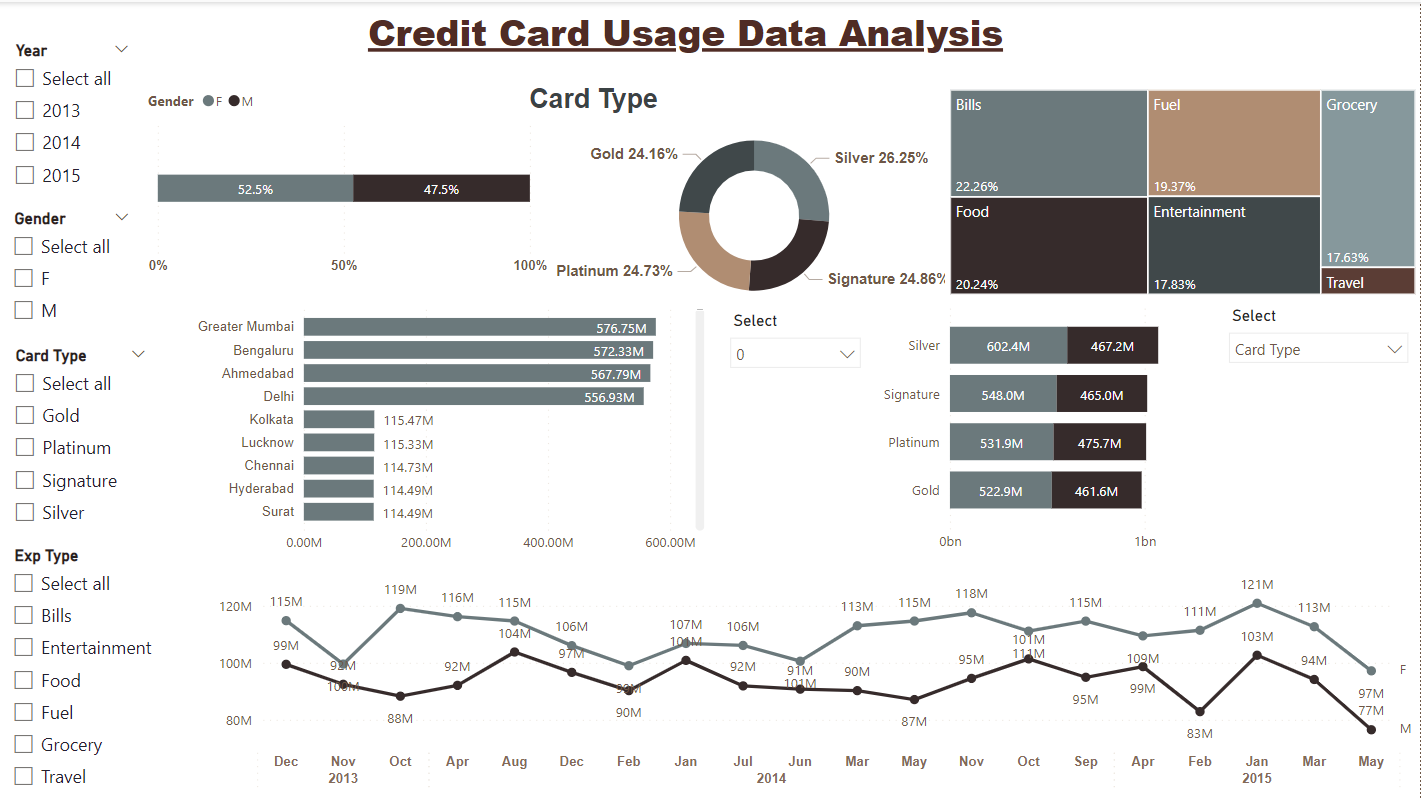

The dashboard page shown, as its layout file describes it:
{"tool":"powerbi","page":{"name":"Page 1","canvas":[1280,720],"ordinal":0},"visuals":[{"type":"textbox","box":[308.5,0,618.3,60.3],"z":0},{"type":"slicer","fields":{"Values":["Date_table.Date.Variation.Date Hierarchy.Year"]},"box":[1.4,30.2,127.5,150.8],"z":1000},{"type":"slicer","fields":{"Values":["Data.Gender"]},"box":[0,181,128.9,126.1],"z":2000},{"type":"slicer","fields":{"Values":["Data.Card Type"]},"box":[1.4,305.7,142.6,179.6],"z":3000},{"type":"slicer","fields":{"Values":["Data.Exp Type"]},"box":[0,485.4,170,234.4],"z":4000},{"type":"hundredPercentStackedBarChart","fields":{"Y":["Data.Gender_"],"Series":["Data.Gender"]},"box":[128.4,74.6,370.4,194.4],"z":5000},{"type":"donutChart","title":"Card Type","fields":{"Category":["Data.Card Type"],"Y":["Data.Transaction"]},"box":[471.9,74.6,415.6,210.3],"z":6000},{"type":"treemap","fields":{"Values":["Data.Transaction"],"Group":["Data.Exp Type"]},"box":[852,74.6,429.1,194.4],"z":7000},{"type":"lineChart","fields":{"Series":["Data.Gender"],"Category":["Date_table.Date.Variation.Date Hierarchy.Year","Date_table.Month_name"],"Y":["Data.Transaction"]},"box":[191.9,504.9,1089.2,215.1],"z":8000},{"type":"slicer","fields":{"Values":["Select.Select"]},"box":[1097.7,268.9,182.1,116.1],"z":9000},{"type":"barChart","fields":{"Category":["Data.Card Type"],"Y":["Data.Transaction"],"Series":["Data.Gender"]},"box":[786,262.8,353.3,242],"z":10000},{"type":"slicer","fields":{"Values":["Select 2.Select"]},"box":[647.9,273.8,138.1,67.2],"z":11000},{"type":"barChart","fields":{"Category":["Data.City"],"Y":["Top N.Top N city"]},"box":[134.5,264,506.1,242],"z":12000}]}

Visuals, with their boxes in screenshot pixels (x1, y1, x2, y2), scaled from the page's 1280x720 canvas onto the 1421x800 screenshot:
textbox: bbox=[342, 0, 1029, 67]
slicer - Date_table.Date.Variation.Date Hierarchy.Year: bbox=[2, 34, 143, 201]
slicer - Data.Gender: bbox=[0, 201, 143, 341]
slicer - Data.Card Type: bbox=[2, 340, 160, 539]
slicer - Data.Exp Type: bbox=[0, 539, 189, 799]
hundredPercentStackedBarChart - Data.Gender_ x Data.Gender: bbox=[143, 83, 554, 299]
"Card Type" donutChart: bbox=[524, 83, 985, 317]
treemap - Data.Transaction x Data.Exp Type: bbox=[946, 83, 1420, 299]
lineChart - Data.Gender x Date_table.Date.Variation.Date Hierarchy.Year: bbox=[213, 561, 1420, 799]
slicer - Select.Select: bbox=[1219, 299, 1420, 428]
barChart - Data.Card Type x Data.Transaction: bbox=[873, 292, 1265, 561]
slicer - Select 2.Select: bbox=[719, 304, 873, 379]
barChart - Data.City x Top N.Top N city: bbox=[149, 293, 711, 562]
